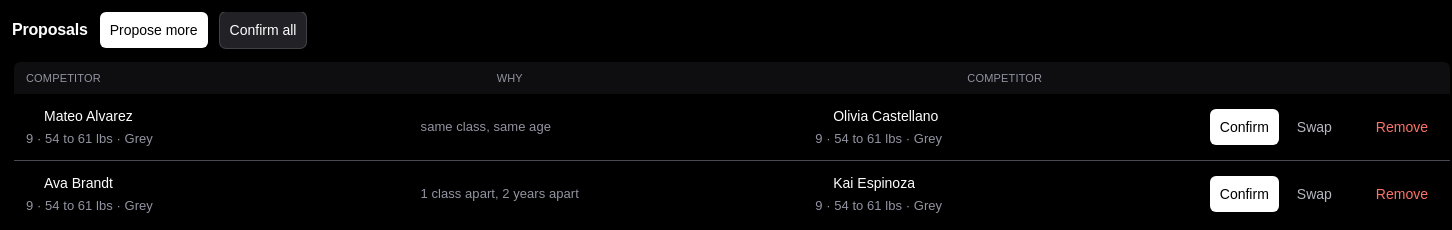
Test: ProposalsPanel › confirms the whole list in one press and says how many it made
Expected: the text "same class, same age" is shown, [421,119,551,134]
Click the button "Confirm all" at (263, 30), box [220,12,306,48]
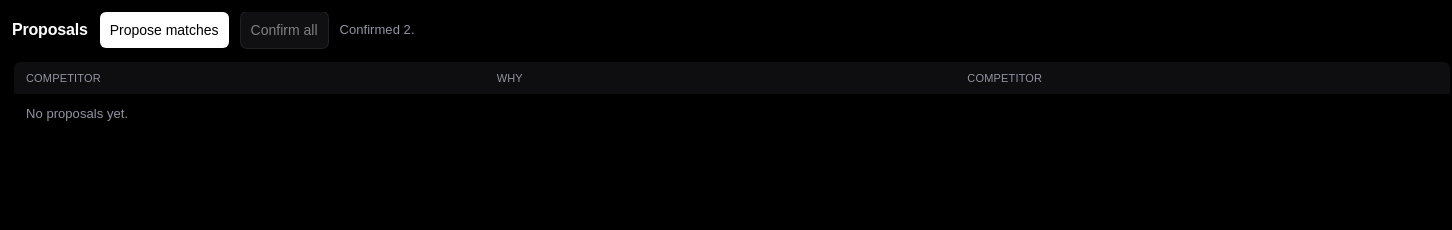
Now the text "Confirmed 2." is shown, box [340,21,414,39]
Now the text "No proposals yet." is shown, box [26,105,128,123]
